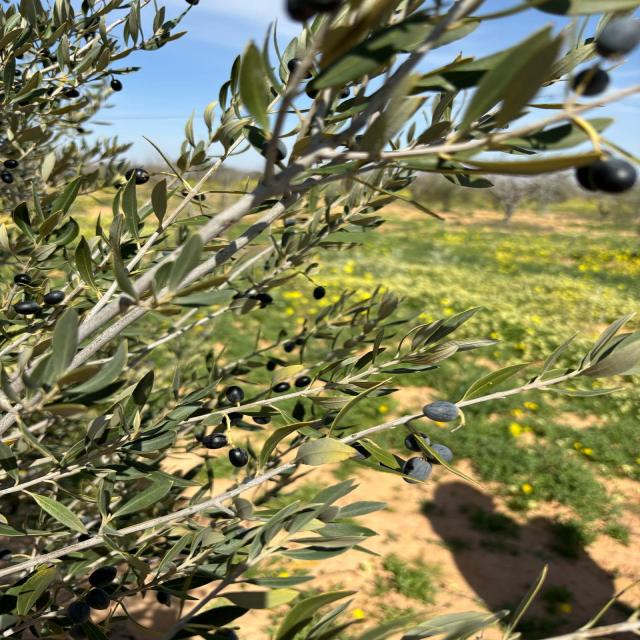Healthy: (575, 157, 636, 194), (29, 493, 85, 533), (114, 480, 172, 516), (423, 401, 458, 422), (89, 566, 117, 587), (67, 600, 89, 624), (85, 589, 110, 610), (13, 301, 41, 315), (229, 448, 248, 467), (203, 433, 227, 448), (44, 290, 65, 305), (226, 386, 244, 402), (0, 170, 14, 184), (111, 79, 122, 91), (4, 160, 18, 168)
